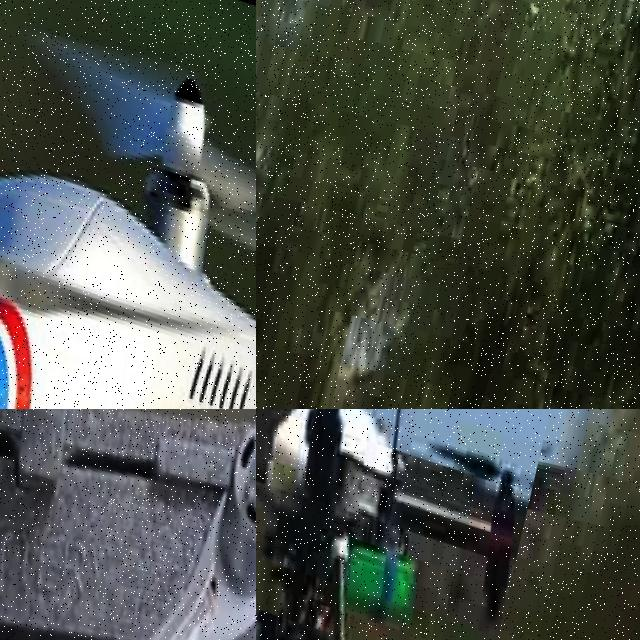0: (256, 409, 573, 640)
drone: (0, 0, 256, 409), (0, 409, 256, 640)
